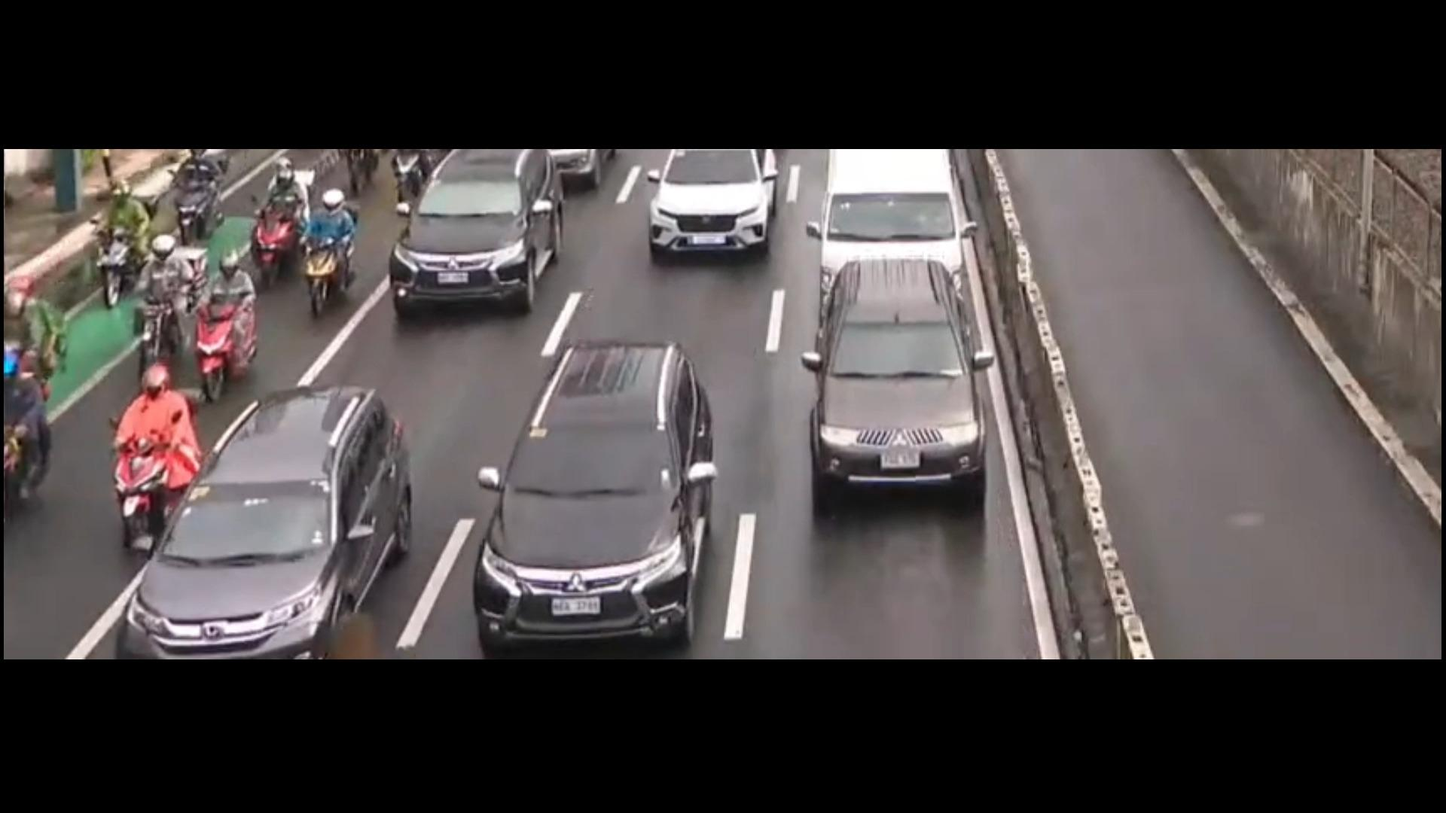Motorcycle: (109, 354, 181, 557), (122, 222, 194, 390), (0, 258, 75, 410), (190, 250, 265, 395), (296, 183, 365, 327), (79, 169, 151, 303), (0, 352, 56, 516), (243, 149, 311, 273), (175, 143, 228, 230)
SUV: (109, 382, 416, 659), (471, 341, 723, 636), (804, 258, 992, 487), (388, 147, 572, 314), (636, 141, 783, 269)
Van: (802, 147, 977, 333)
